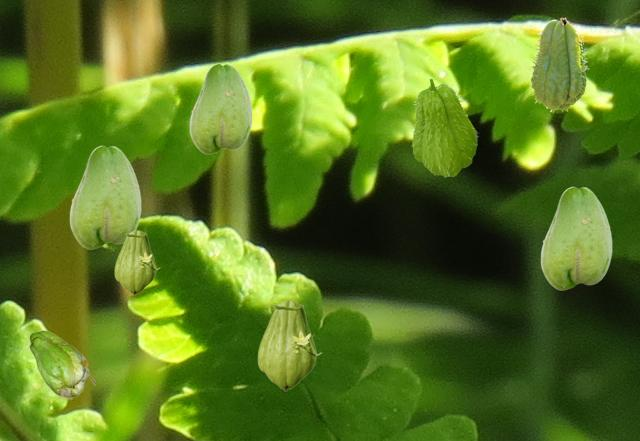sayote: (540, 186, 611, 289), (69, 145, 140, 248), (410, 77, 478, 176), (257, 300, 321, 390), (529, 17, 588, 112), (189, 63, 251, 153), (26, 330, 94, 398), (114, 230, 159, 294)
